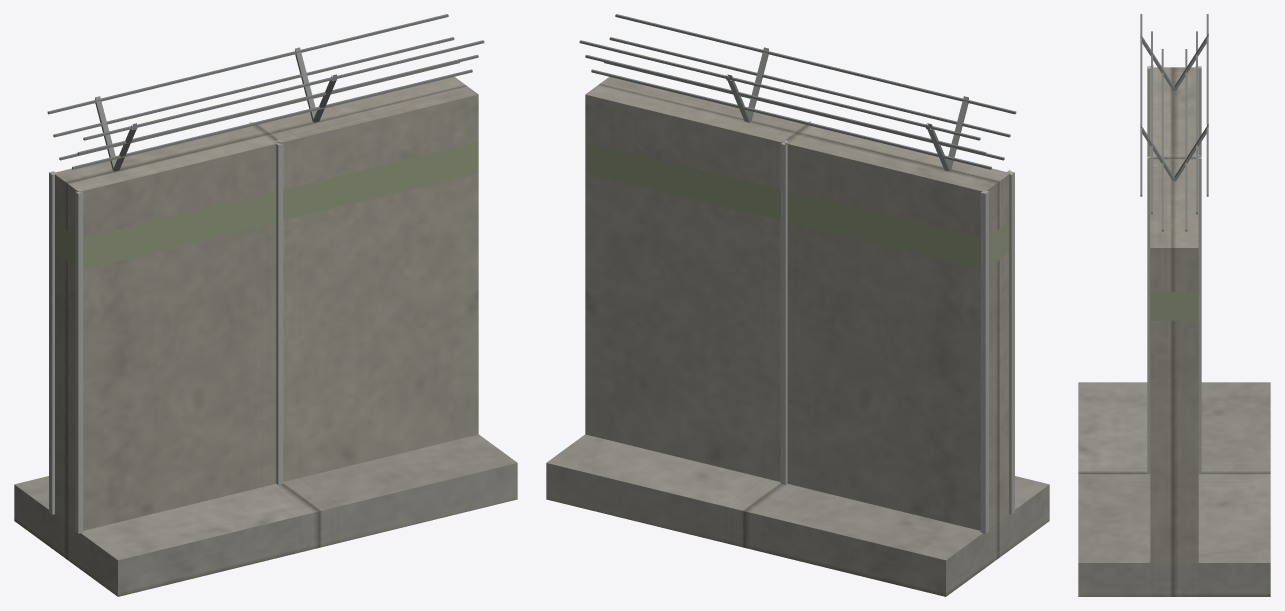
File: mb-wall.zfix-v21.lod0.glb
The picture shows the model from 3 angles, left to right: view 1: azimuth 30°, elevation 25°; view 2: azimuth 150°, elevation 25°; view 3: azimuth 270°, elevation 25°; orthographic projection. The views are drawn at different scales.
Visible parts, largest first — view 1: mb-wall; view 2: mb-wall; view 3: mb-wall.
Boxes of the visible parts, <box> form: mb-wall: <box>14,14,517,596</box>; mb-wall: <box>546,14,1049,596</box>; mb-wall: <box>1078,14,1270,596</box>.
Size of the model in its own units: 4.03 by 4.18 by 1.8.
Materials: 2 (1 with a texture image).
